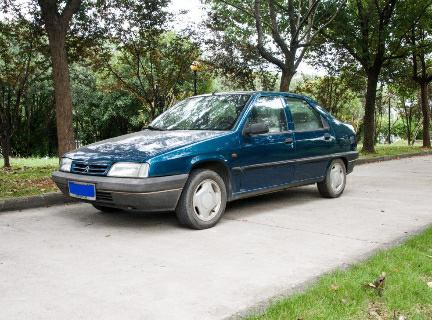雪铁龙-富康: (43, 84, 369, 237)
